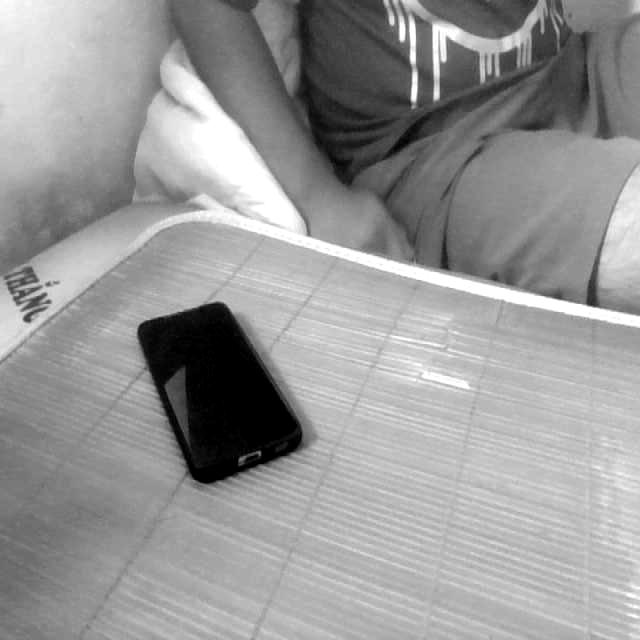phone: (122, 290, 322, 500)
